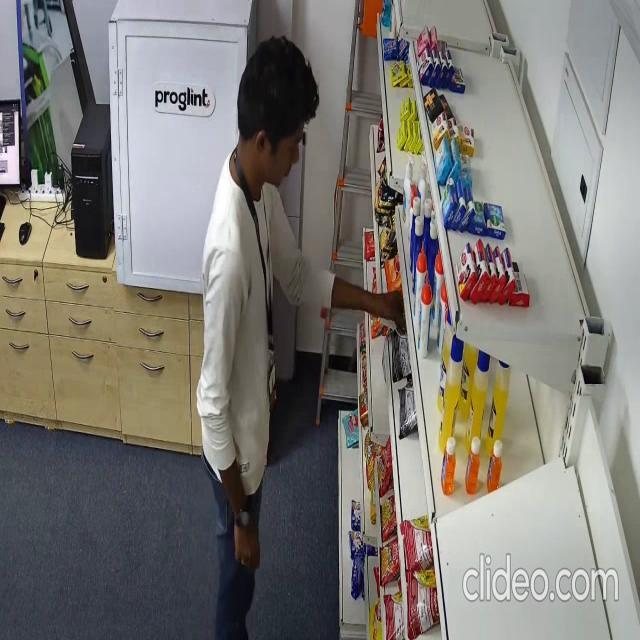normal: (197, 33, 408, 640)
